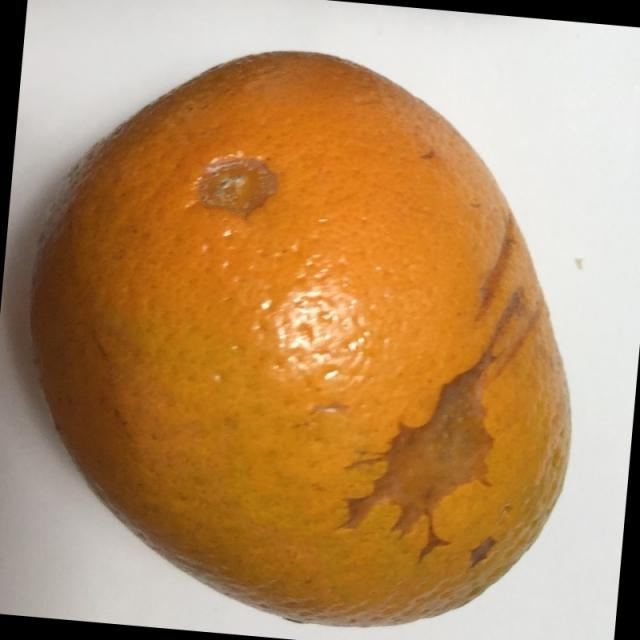canker: (10, 28, 625, 636)
